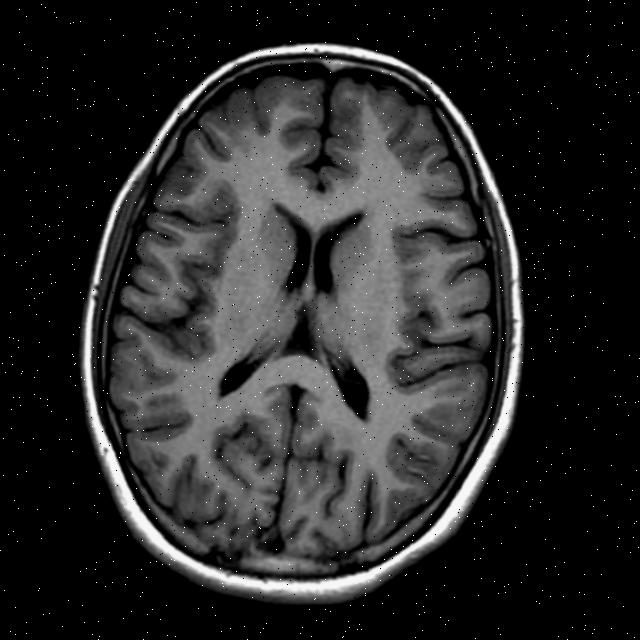NoTumor: (50, 22, 555, 623)
